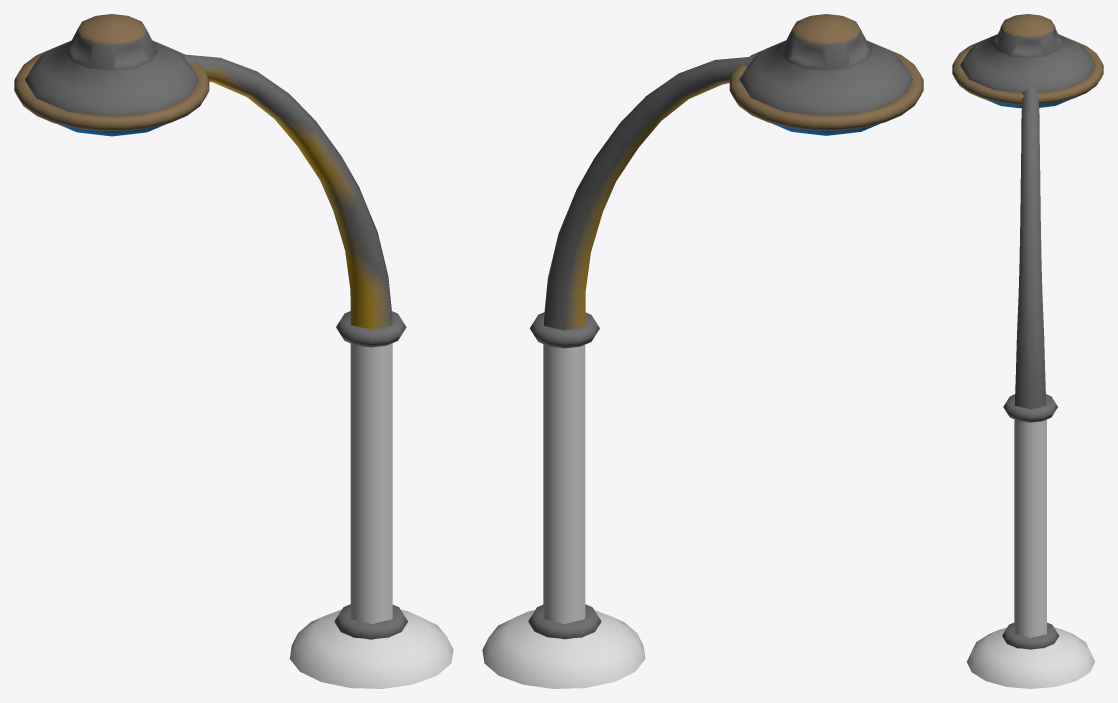
The model's file is lampost_lod1.FBX.
3 renders of one model, left to right at view 1: azimuth 30°, elevation 25°; view 2: azimuth 150°, elevation 25°; view 3: azimuth 270°, elevation 25°, orthographic. The views are drawn at different scales.
Parts seen in each view (by area): view 1: sky_lamppost_lod1; view 2: sky_lamppost_lod1; view 3: sky_lamppost_lod1.
Part boxes in pixels (x1,y1,x2,y2): sky_lamppost_lod1: [14, 14, 453, 688]; sky_lamppost_lod1: [482, 14, 923, 688]; sky_lamppost_lod1: [952, 14, 1103, 688].
Bounding box in the file's own units: 3.54 × 5.68 × 1.43.
